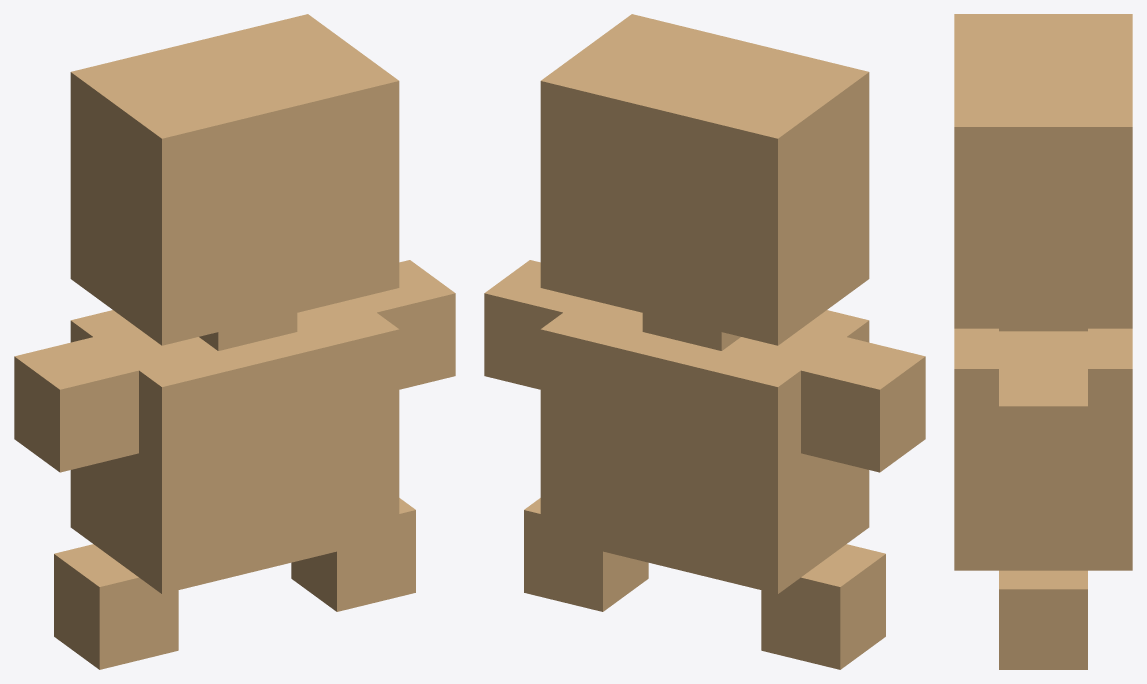
File: Person Idle 1.obj
3 views of the same model, side by side, from view 1: azimuth 30°, elevation 25°; view 2: azimuth 150°, elevation 25°; view 3: azimuth 270°, elevation 25° (orthographic). The views are drawn at different scales.
Bounding box in the file's own units: 1 × 1.3 × 0.4.
